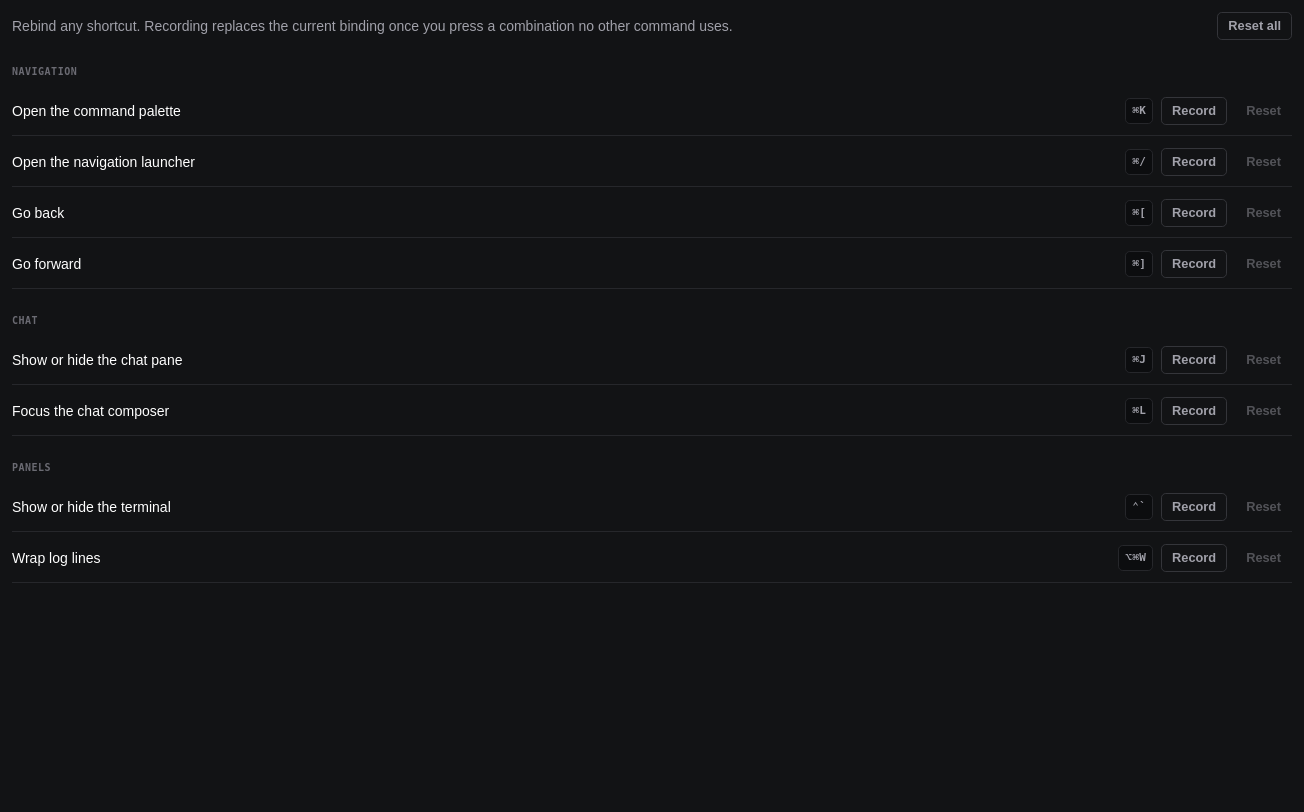
KeyboardTab › refuses a combination another command already holds
The image size is (1304, 812).
Click the button with aria-label "Record Wrap log lines" at (1194,558), box [1161,544,1227,572]
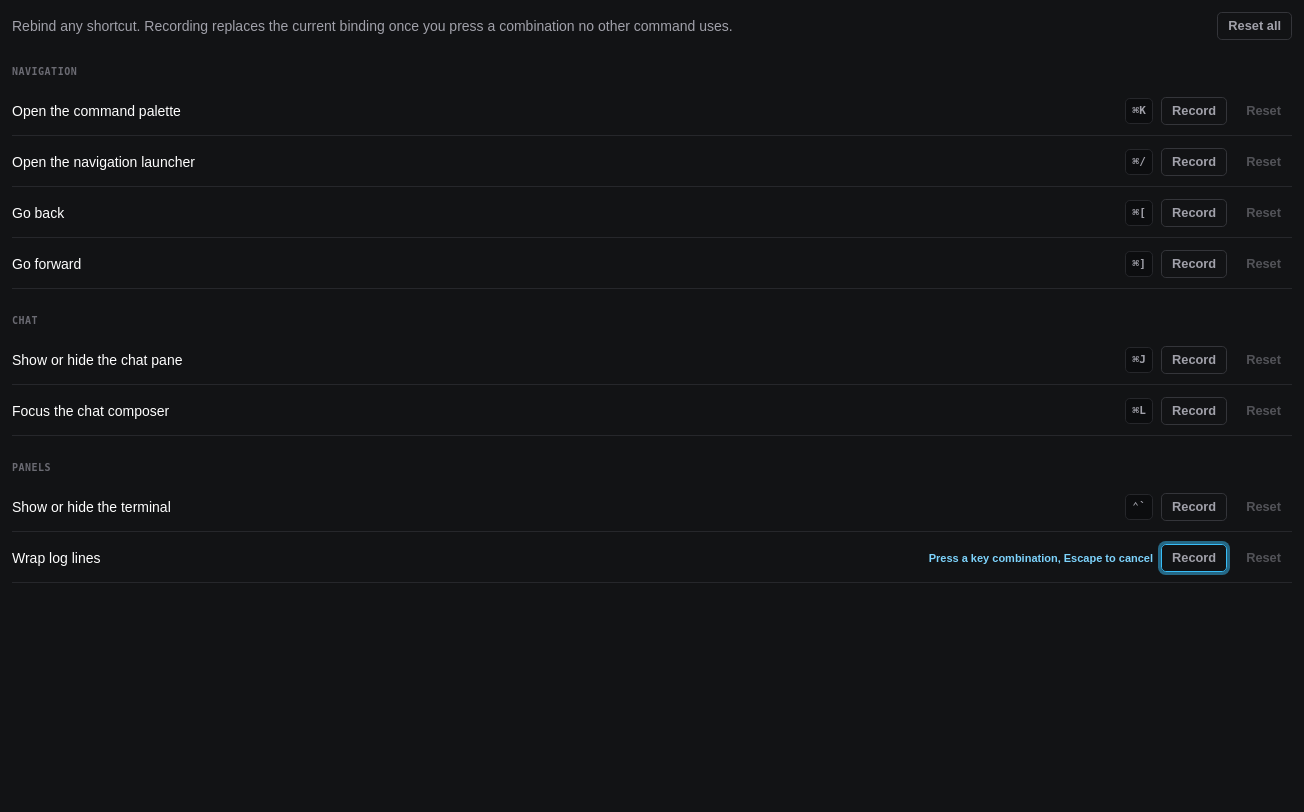
Press j
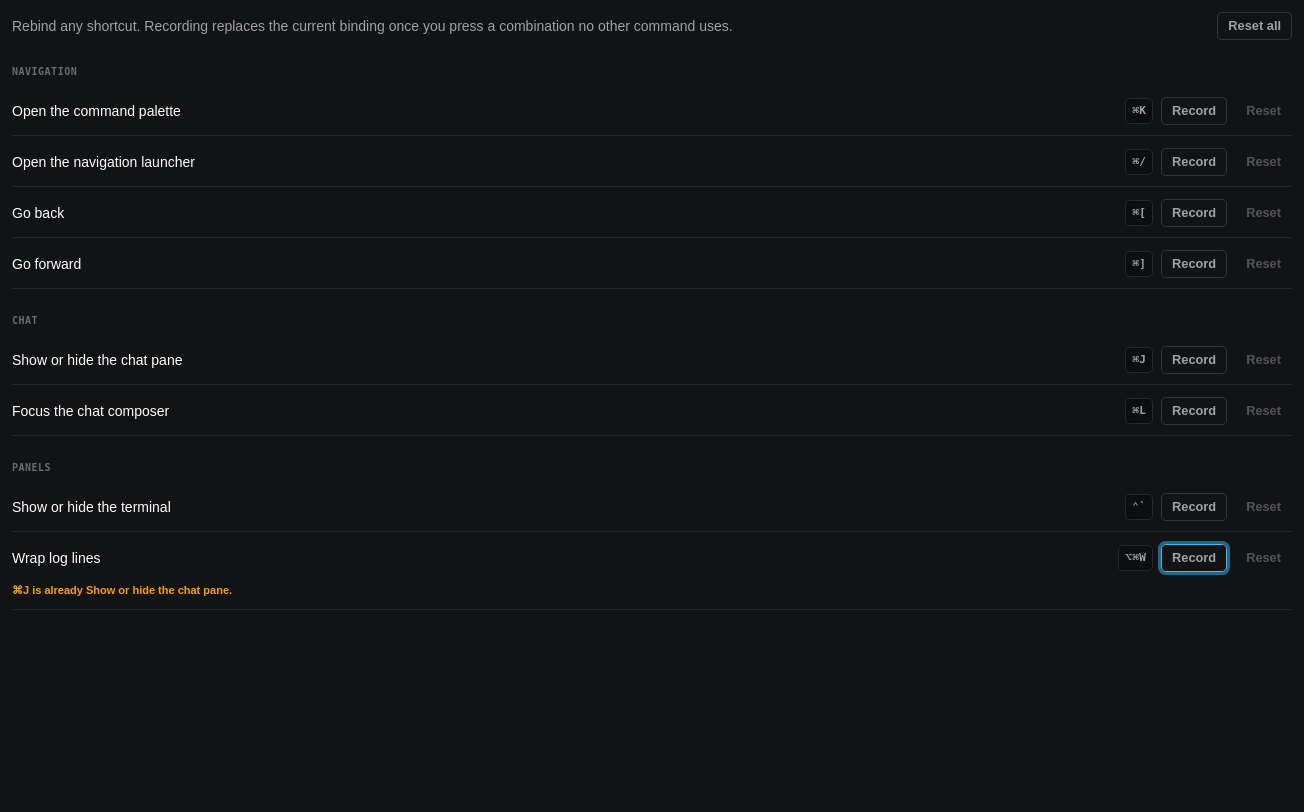
Result: the text "⌘J is already Show or hide the chat pane." is shown at [12,584,232,596]
